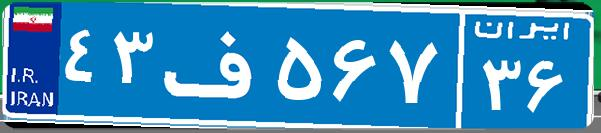3: (475, 38, 525, 113), (110, 28, 158, 105)
4: (57, 26, 110, 107)
5: (273, 28, 330, 110)
6: (330, 28, 385, 110), (525, 38, 570, 115)
7: (385, 28, 445, 110)
ف: (158, 15, 273, 115)
